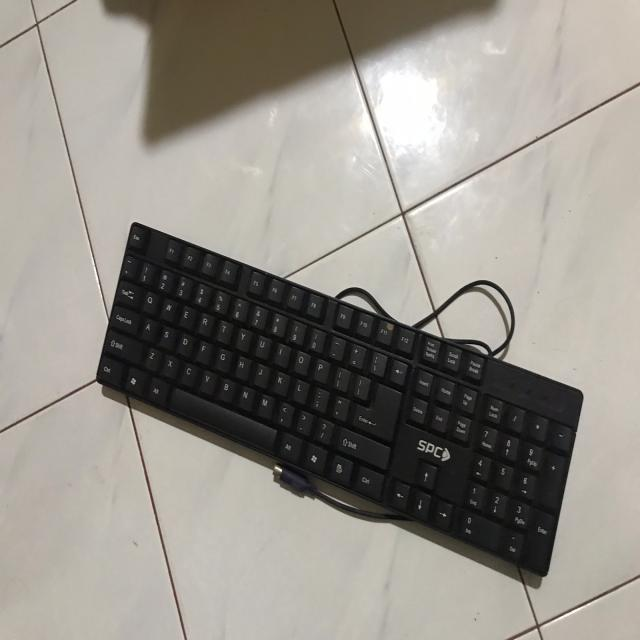-mouse-: (94, 220, 587, 577)
